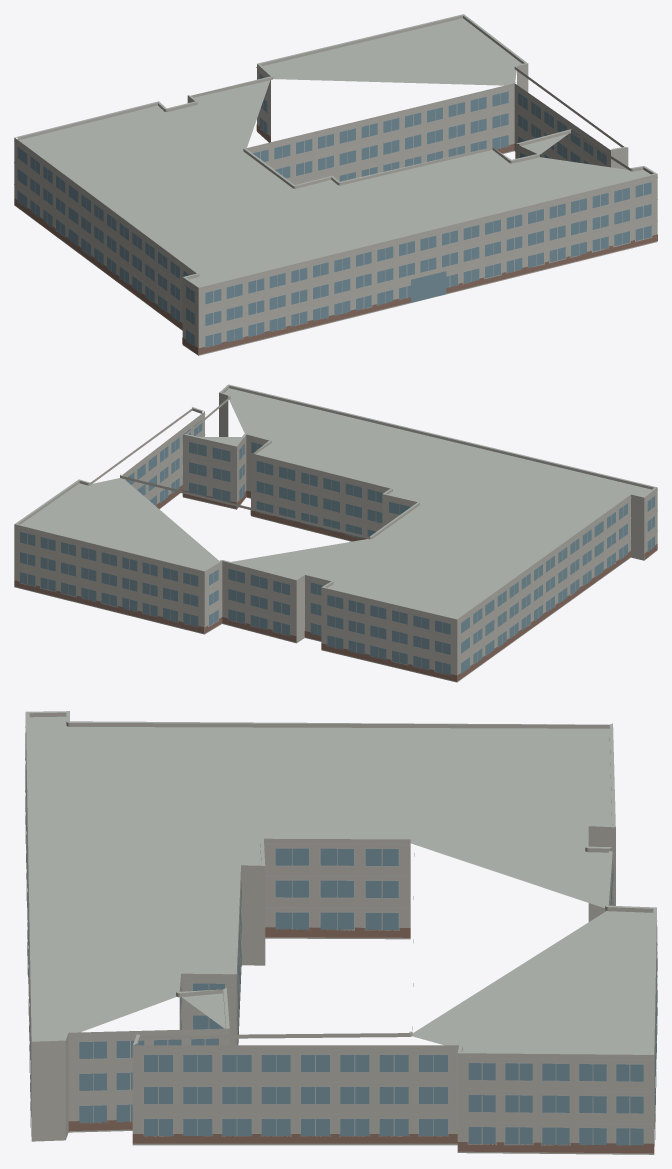
Rendered from public-8175bcde-b36f-4696-a09b-3a82c7ba7f9b.glb.
3 views of the same model, one above another, from view 1: azimuth 30°, elevation 25°; view 2: azimuth 150°, elevation 25°; view 3: azimuth 270°, elevation 25° (orthographic). The views are drawn at different scales.
Parts seen in each view (by area): view 1: public-8175bcde-b36f-4696-a09b-3a82c7ba7f9b; view 2: public-8175bcde-b36f-4696-a09b-3a82c7ba7f9b; view 3: public-8175bcde-b36f-4696-a09b-3a82c7ba7f9b.
Part boxes in pixels (left/top/right/bottom): public-8175bcde-b36f-4696-a09b-3a82c7ba7f9b: left=14, top=14, right=657, bottom=355; public-8175bcde-b36f-4696-a09b-3a82c7ba7f9b: left=14, top=384, right=657, bottom=682; public-8175bcde-b36f-4696-a09b-3a82c7ba7f9b: left=25, top=711, right=657, bottom=1154.
Bounding box in the file's own units: 67.72 × 9.15 × 53.48.
